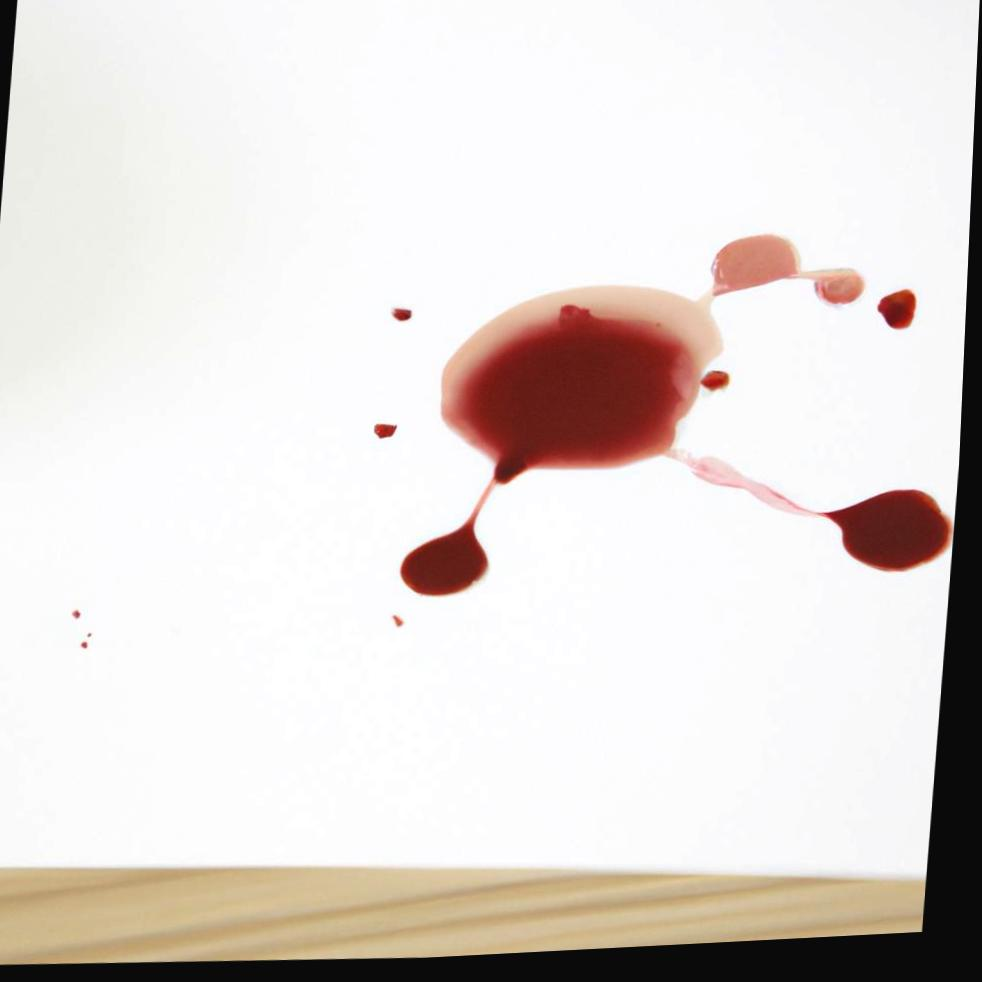Fire: (405, 243, 959, 601), (880, 299, 919, 339), (378, 427, 401, 444), (395, 313, 415, 326)
